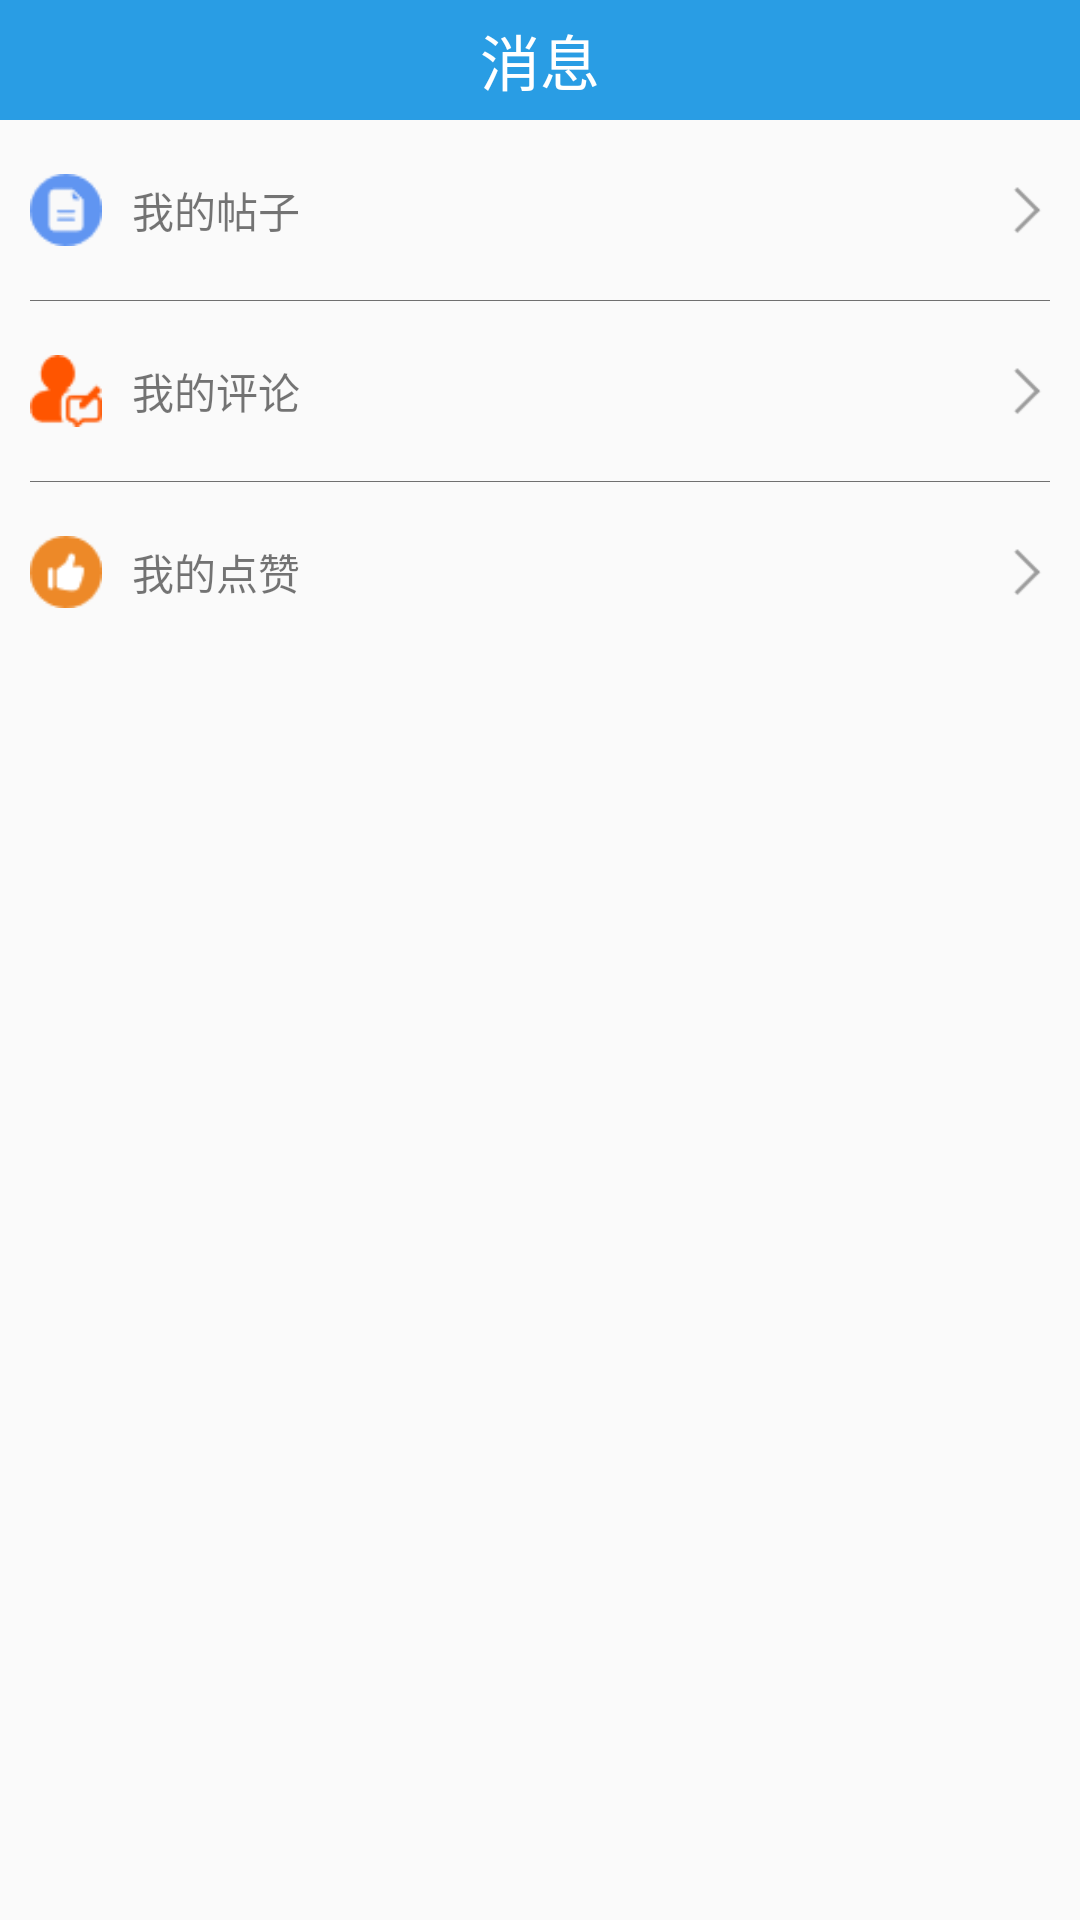

Screen size 1080 × 1920. Icon name, then its box in pixels as box(x1, y1, x2, y2):
mydz: box(30, 536, 102, 608)
mypl: box(30, 355, 102, 427)
mytz: box(30, 174, 102, 246)
open: box(1014, 187, 1040, 233), box(1014, 368, 1040, 414), box(1014, 549, 1040, 595)
